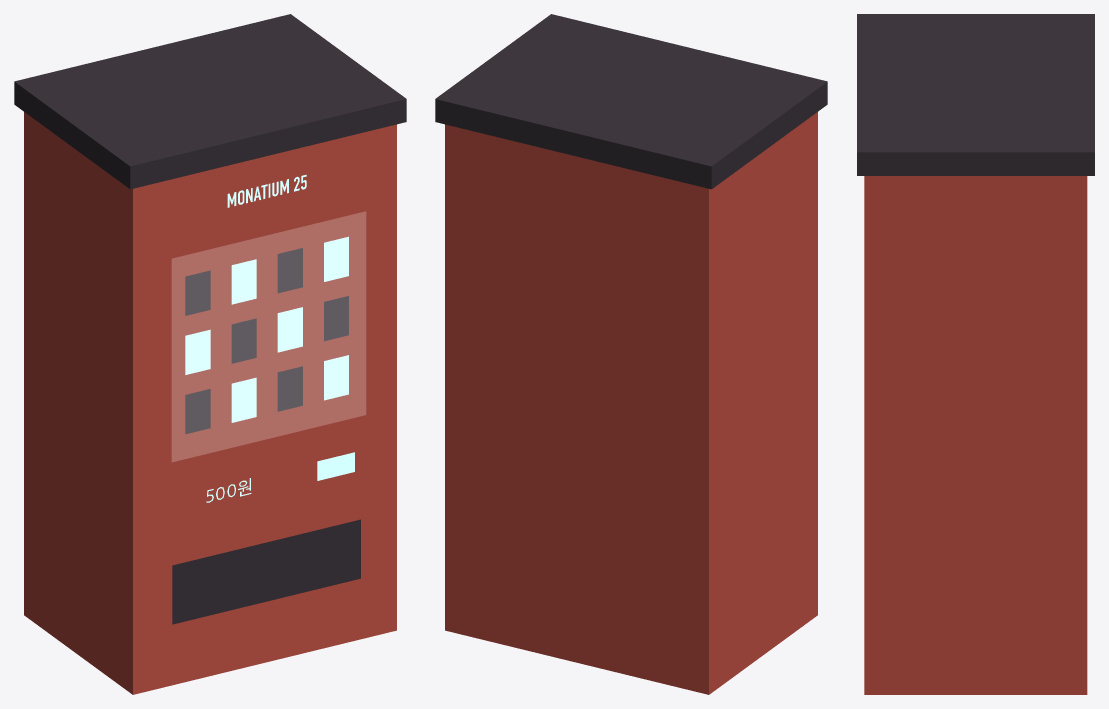
File: monatium_vending.glb
3 renders of one model, left to right at view 1: azimuth 30°, elevation 25°; view 2: azimuth 150°, elevation 25°; view 3: azimuth 270°, elevation 25°, orthographic. The views are drawn at different scales.
Visible parts, largest first — view 1: monatium_vending_red_detail, monatium_vending_dark_detail, monatium_vending_glass_a_fine, monatium_vending_dark_fine, monatium_vending_glow_fine; view 2: monatium_vending_red_detail, monatium_vending_dark_detail; view 3: monatium_vending_red_detail, monatium_vending_dark_detail.
Boxes of the visible parts, <box> form: monatium_vending_red_detail: <box>24,112,396,694</box>; monatium_vending_dark_detail: <box>14,14,406,189</box>; monatium_vending_glass_a_fine: <box>172,212,365,461</box>; monatium_vending_dark_fine: <box>172,248,360,624</box>; monatium_vending_glow_fine: <box>185,174,354,502</box>; monatium_vending_red_detail: <box>445,112,817,694</box>; monatium_vending_dark_detail: <box>435,14,827,189</box>; monatium_vending_red_detail: <box>864,176,1087,694</box>; monatium_vending_dark_detail: <box>857,14,1094,175</box>.
Size of the model in its own units: 0.88 by 1.62 by 0.642.
